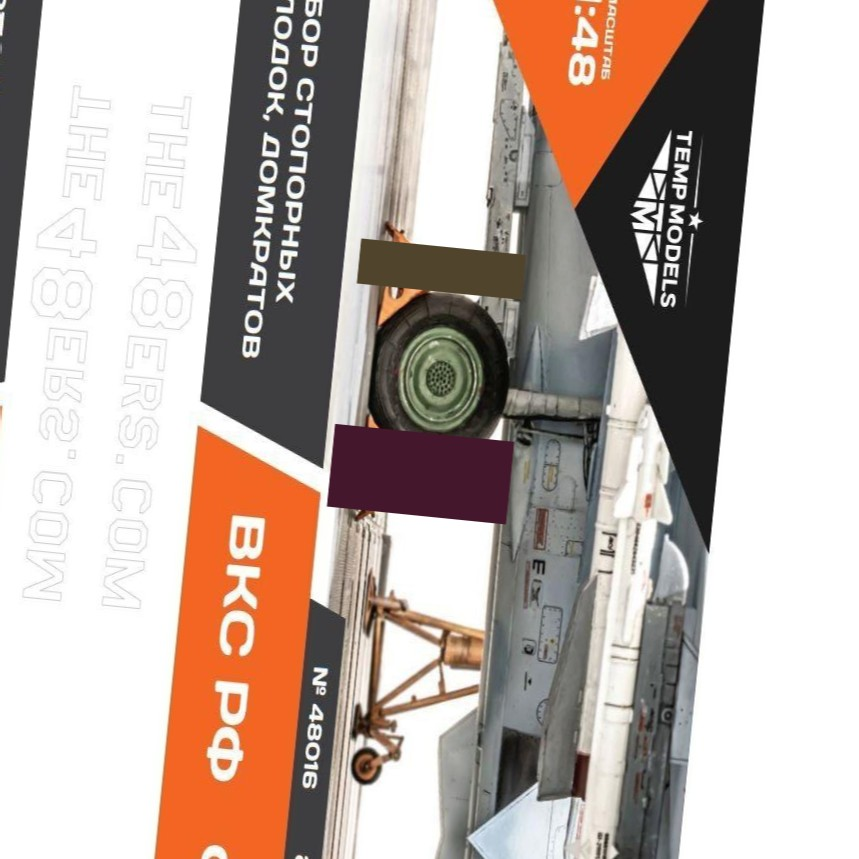chock: (354, 411, 425, 526), (375, 221, 445, 332)
wheel: (366, 284, 521, 472), (350, 744, 386, 786)
